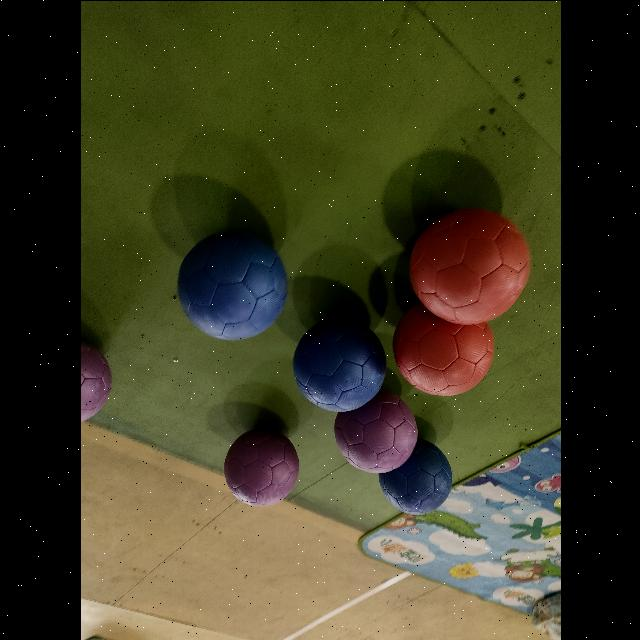B: (177, 230, 286, 340), (293, 318, 385, 410), (378, 438, 452, 514)
P: (334, 390, 416, 472), (223, 428, 297, 506), (80, 342, 110, 422)
R: (409, 208, 529, 324), (392, 301, 494, 397)
